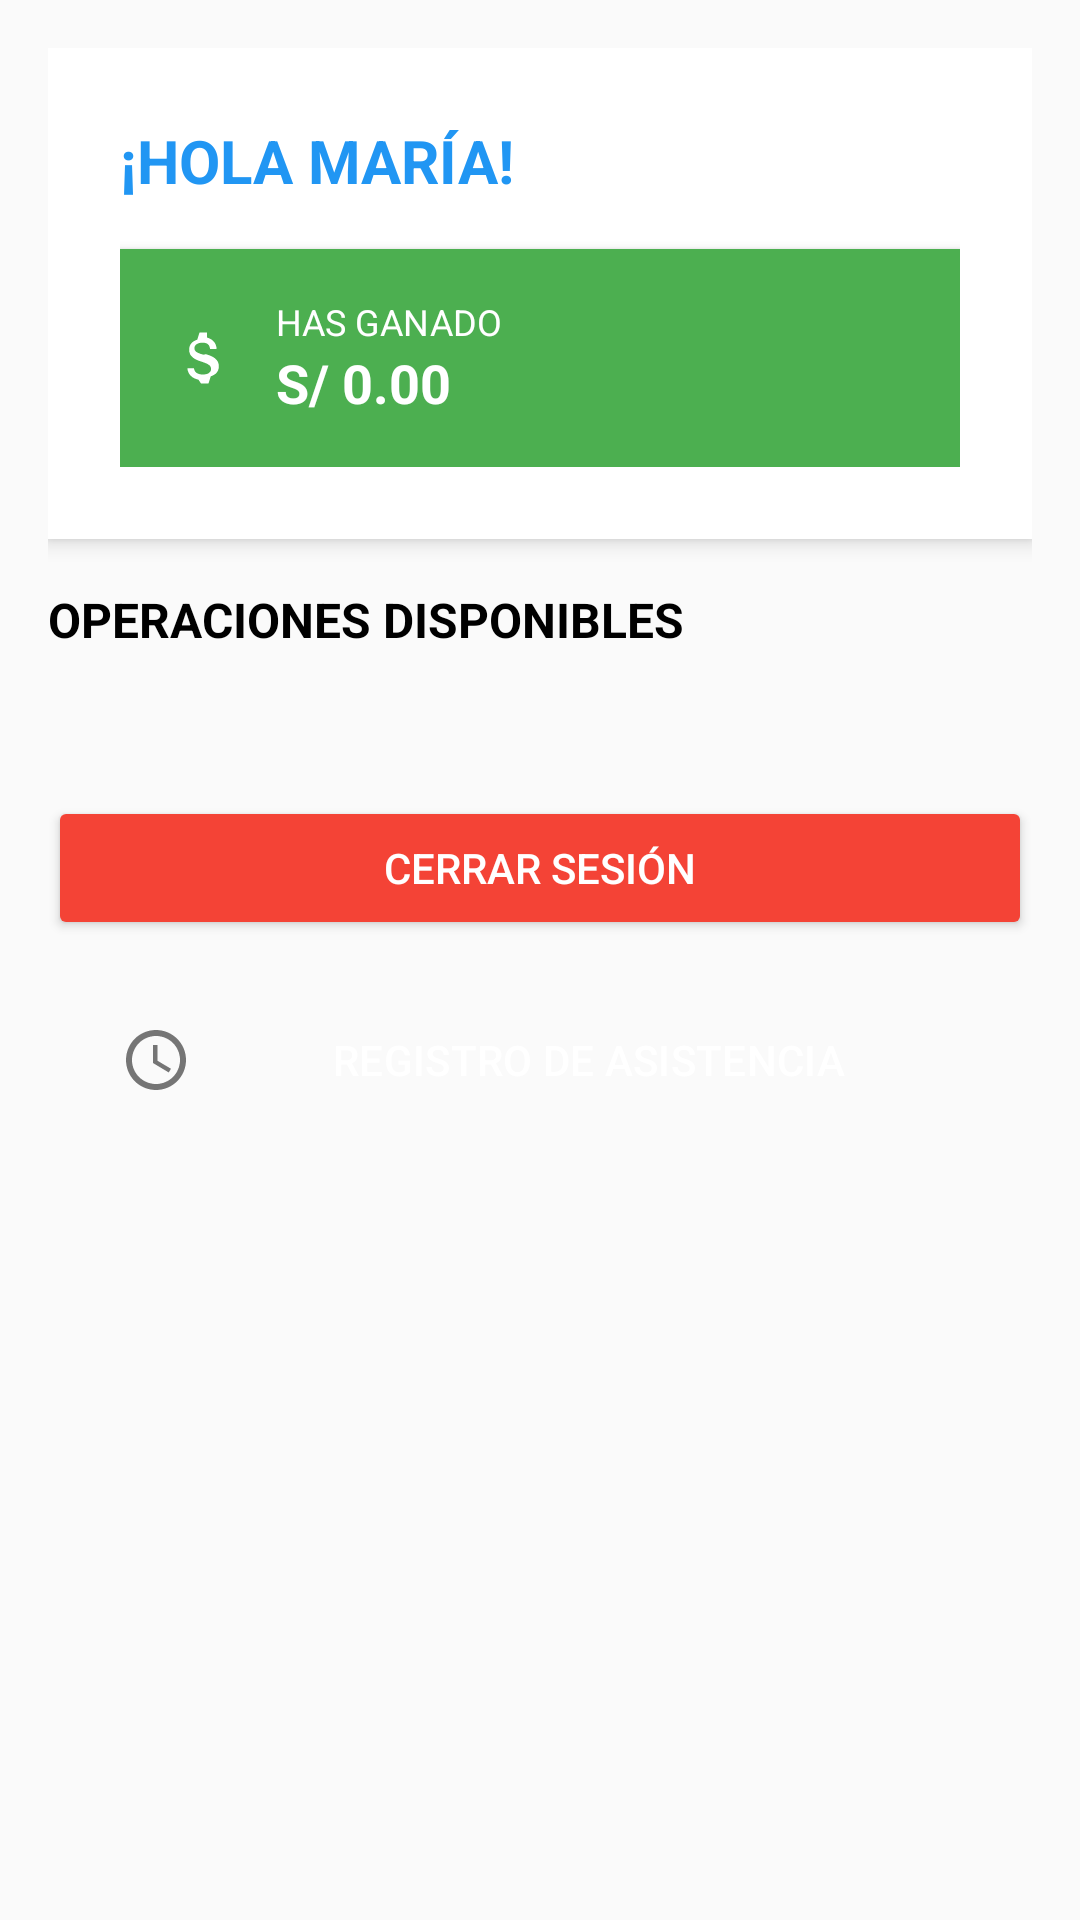

Icon bounding boxes for this 1080*1920 phone screenshot, format (x1, y1, x2, y2):
money: (187, 332, 219, 384)
